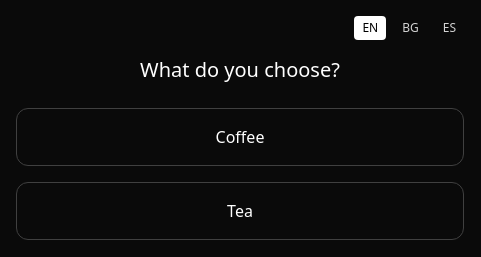
Test: App › progresses to next question when answer is clicked
Expected: the heading "What do you choose?" is shown, [140,56,340,83]
Click the button "Coffee" at point(240, 137), box [16,108,464,166]
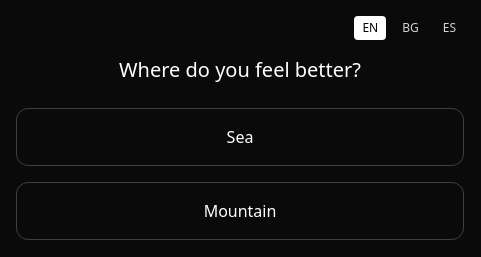
Now the heading "Where do you feel better?" is shown, box [119,56,361,83]
